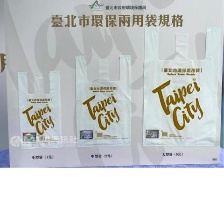plastic_bag: (142, 24, 222, 149), (73, 52, 132, 149), (13, 68, 65, 150)
